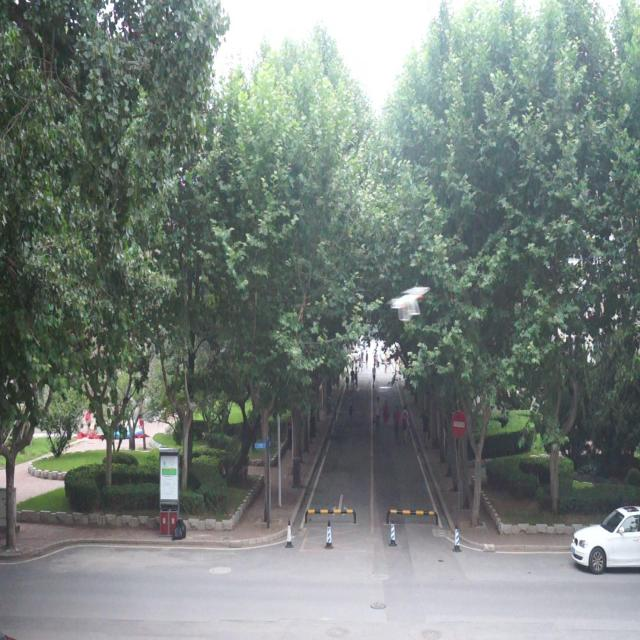drone: (385, 280, 431, 326)
